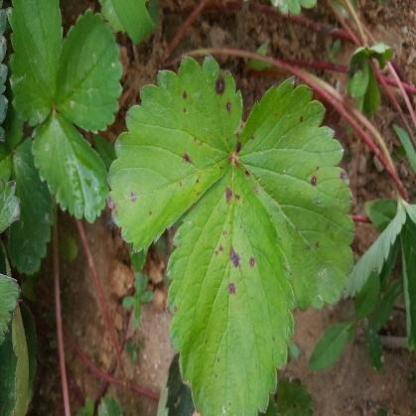Strawberry_Leaf_Spot: (164, 158, 297, 416), (237, 76, 357, 312), (105, 53, 243, 256)
